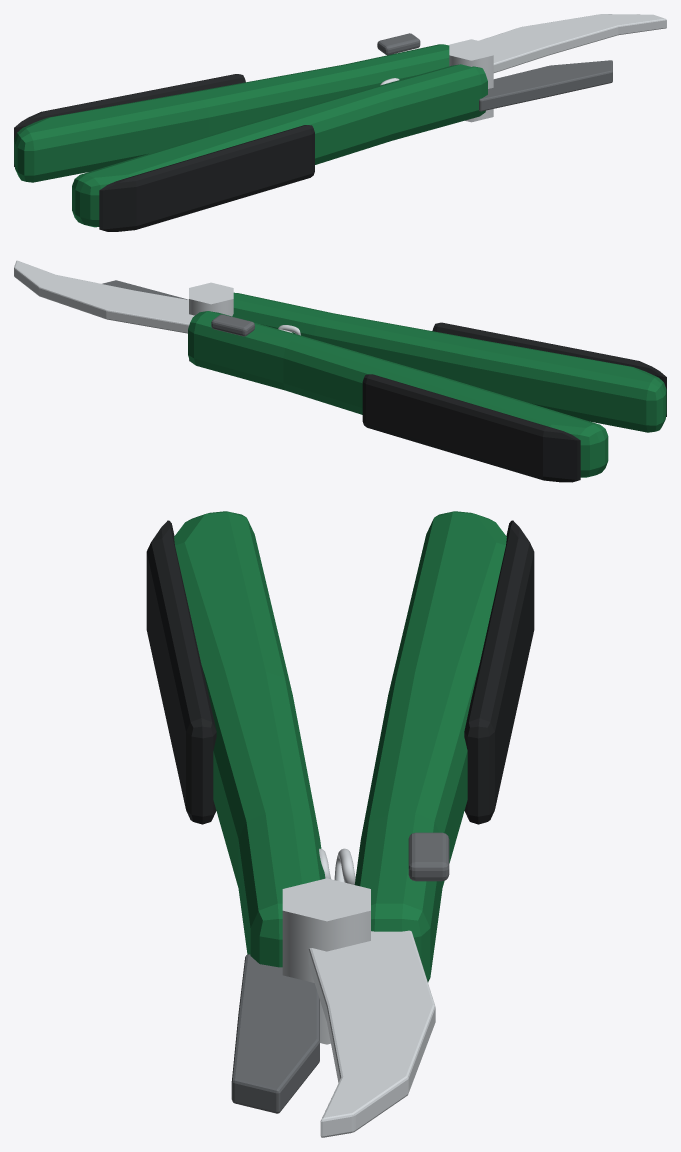
Rendered from item-15.glb.
The picture shows the model from 3 angles, top to bottom: view 1: azimuth 30°, elevation 25°; view 2: azimuth 150°, elevation 25°; view 3: azimuth 270°, elevation 25°; orthographic projection. The views are drawn at different scales.
Parts seen in each view (by area): view 1: handle_a, handle_b, grip_b, blade, anvil, grip_a, nut, latch; view 2: handle_b, handle_a, grip_a, blade, grip_b, nut, latch, anvil; view 3: handle_b, handle_a, blade, grip_a, grip_b, anvil, nut, latch.
Boxes of the visible parts, x1=… form: handle_a: x1=14, y1=44, x2=449, y2=182; handle_b: x1=72, y1=64, x2=487, y2=227; grip_b: x1=99, y1=125, x2=314, y2=231; blade: x1=479, y1=14, x2=666, y2=72; anvil: x1=479, y1=60, x2=612, y2=111; grip_a: x1=14, y1=74, x2=245, y2=166; nut: x1=449, y1=39, x2=493, y2=122; latch: x1=377, y1=33, x2=420, y2=55; handle_b: x1=232, y1=292, x2=666, y2=432; handle_a: x1=188, y1=311, x2=608, y2=477; grip_a: x1=362, y1=374, x2=580, y2=482; blade: x1=14, y1=260, x2=194, y2=333; grip_b: x1=432, y1=322, x2=666, y2=416; nut: x1=189, y1=282, x2=233, y2=361; latch: x1=211, y1=314, x2=254, y2=336; anvil: x1=102, y1=280, x2=188, y2=299; handle_b: x1=174, y1=511, x2=325, y2=967; handle_a: x1=354, y1=511, x2=506, y2=982; blade: x1=308, y1=930, x2=435, y2=1137; grip_a: x1=464, y1=520, x2=534, y2=824; grip_b: x1=146, y1=520, x2=216, y2=824; anvil: x1=231, y1=954, x2=319, y2=1113; nut: x1=282, y1=878, x2=370, y2=1044; latch: x1=408, y1=832, x2=449, y2=881.
Bounding box in the file's own units: 0.2091 × 0.021 × 0.057.
